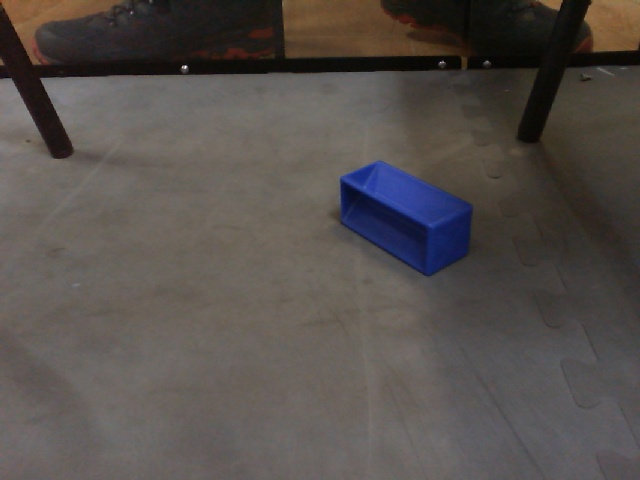BlueSample: (334, 155, 474, 289)
